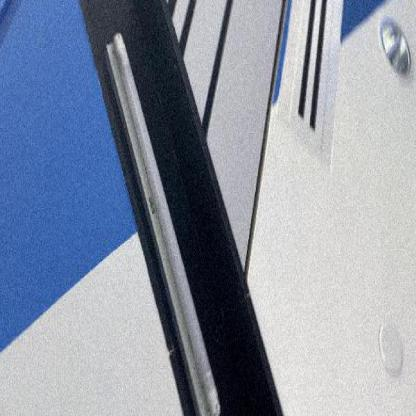light_off: (95, 24, 229, 414)
